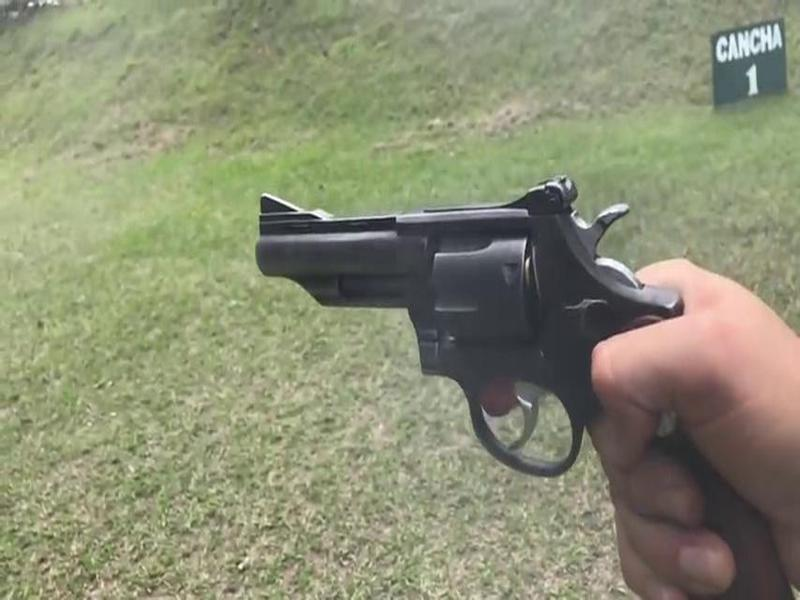Revolver: (247, 147, 691, 501)
